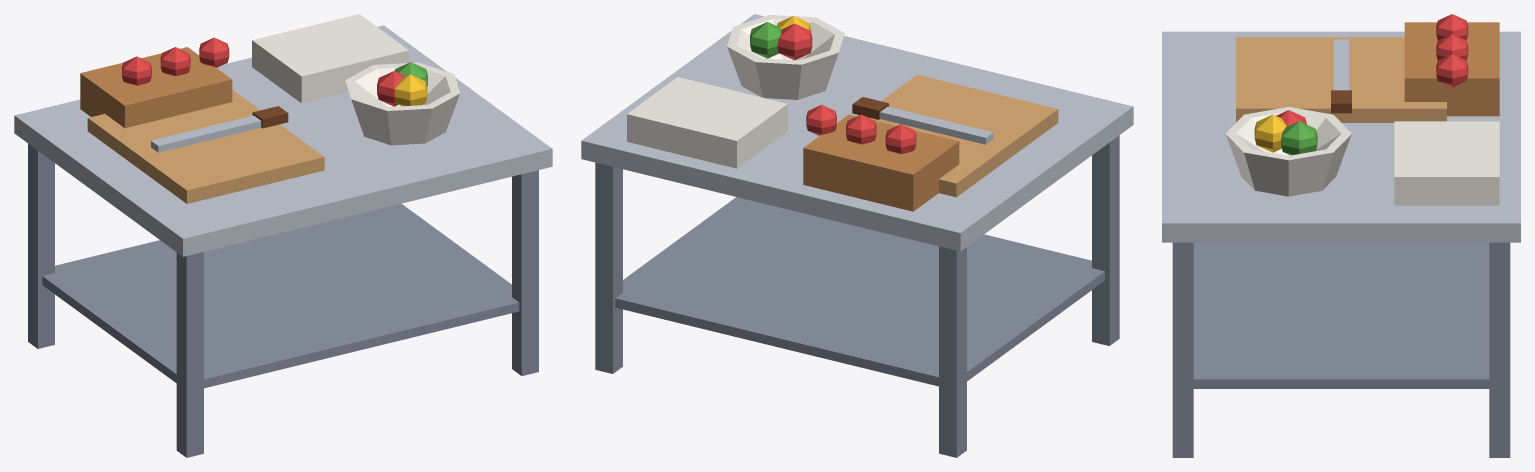
The model's file is prep-table.glb.
The picture shows the model from 3 angles, left to right: view 1: azimuth 30°, elevation 25°; view 2: azimuth 150°, elevation 25°; view 3: azimuth 270°, elevation 25°; orthographic projection. The views are drawn at different scales.
Visible parts, largest first — view 1: prep-table; view 2: prep-table; view 3: prep-table.
Boxes of the visible parts, x1=… form: prep-table: x1=14, y1=14, x2=552, y2=457; prep-table: x1=581, y1=14, x2=1133, y2=457; prep-table: x1=1162, y1=14, x2=1520, y2=457.
Size of the model in its own units: 0.86 by 0.635 by 0.68.
1 material, 1 textured.
